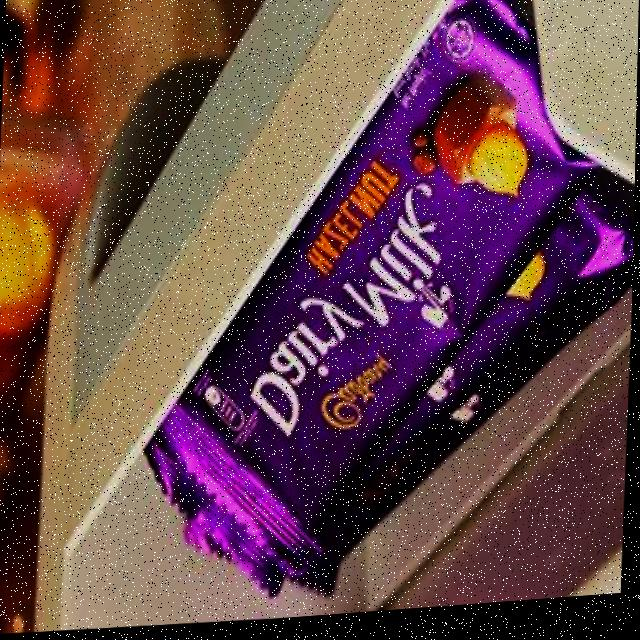cadbury: (138, 0, 610, 590)
